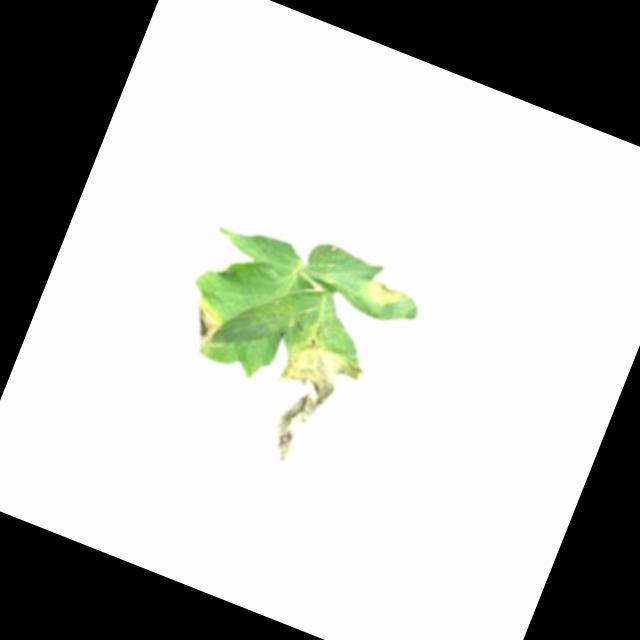Late_blight: (245, 327, 371, 480), (178, 298, 230, 360), (355, 268, 413, 315)
